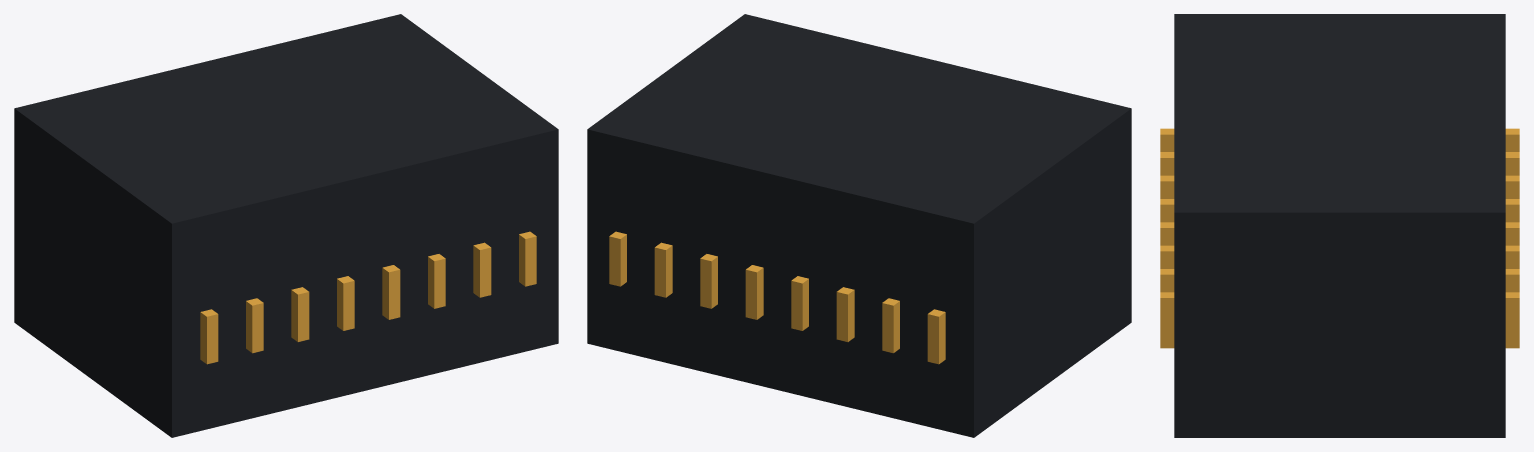
The model's file is 089_L106_CONNECTOR1.fbx.
3 renders of one model, left to right at view 1: azimuth 30°, elevation 25°; view 2: azimuth 150°, elevation 25°; view 3: azimuth 270°, elevation 25°, orthographic. The views are drawn at different scales.
Parts seen in each view (by area): view 1: 089_L106_CONNECTOR1_000, 089_L106_CONNECTOR1_001, 089_L106_CONNECTOR1_005, 089_L106_CONNECTOR1_013, 089_L106_CONNECTOR1_009, 089_L106_CONNECTOR1_003, 089_L106_CONNECTOR1_011, 089_L106_CONNECTOR1_015, 089_L106_CONNECTOR1_007; view 2: 089_L106_CONNECTOR1_000, 089_L106_CONNECTOR1_002, 089_L106_CONNECTOR1_006, 089_L106_CONNECTOR1_014, 089_L106_CONNECTOR1_010, 089_L106_CONNECTOR1_004, 089_L106_CONNECTOR1_012, 089_L106_CONNECTOR1_016, 089_L106_CONNECTOR1_008; view 3: 089_L106_CONNECTOR1_000, 089_L106_CONNECTOR1_015, 089_L106_CONNECTOR1_016, 089_L106_CONNECTOR1_003, 089_L106_CONNECTOR1_004, 089_L106_CONNECTOR1_009, 089_L106_CONNECTOR1_010, 089_L106_CONNECTOR1_001, 089_L106_CONNECTOR1_002, 089_L106_CONNECTOR1_005, 089_L106_CONNECTOR1_006, 089_L106_CONNECTOR1_007 (+5 smaller).
Part boxes in pixels (bbox=[...]): 089_L106_CONNECTOR1_000: bbox=[14, 14, 558, 437]; 089_L106_CONNECTOR1_001: bbox=[200, 309, 218, 364]; 089_L106_CONNECTOR1_005: bbox=[291, 287, 309, 341]; 089_L106_CONNECTOR1_013: bbox=[473, 242, 491, 297]; 089_L106_CONNECTOR1_009: bbox=[382, 265, 400, 319]; 089_L106_CONNECTOR1_003: bbox=[246, 298, 263, 353]; 089_L106_CONNECTOR1_011: bbox=[428, 254, 445, 308]; 089_L106_CONNECTOR1_015: bbox=[519, 231, 536, 286]; 089_L106_CONNECTOR1_007: bbox=[337, 276, 354, 330]; 089_L106_CONNECTOR1_000: bbox=[587, 14, 1131, 437]; 089_L106_CONNECTOR1_002: bbox=[927, 309, 945, 364]; 089_L106_CONNECTOR1_006: bbox=[836, 287, 854, 341]; 089_L106_CONNECTOR1_014: bbox=[654, 242, 672, 297]; 089_L106_CONNECTOR1_010: bbox=[745, 265, 763, 319]; 089_L106_CONNECTOR1_004: bbox=[882, 298, 899, 353]; 089_L106_CONNECTOR1_012: bbox=[700, 254, 717, 308]; 089_L106_CONNECTOR1_016: bbox=[609, 231, 626, 286]; 089_L106_CONNECTOR1_008: bbox=[791, 276, 808, 330]; 089_L106_CONNECTOR1_000: bbox=[1174, 14, 1505, 437]; 089_L106_CONNECTOR1_015: bbox=[1160, 292, 1174, 348]; 089_L106_CONNECTOR1_016: bbox=[1505, 292, 1519, 348]; 089_L106_CONNECTOR1_003: bbox=[1160, 152, 1174, 175]; 089_L106_CONNECTOR1_004: bbox=[1505, 152, 1519, 175]; 089_L106_CONNECTOR1_009: bbox=[1160, 222, 1174, 245]; 089_L106_CONNECTOR1_010: bbox=[1505, 222, 1519, 245]; 089_L106_CONNECTOR1_001: bbox=[1160, 128, 1174, 151]; 089_L106_CONNECTOR1_002: bbox=[1505, 128, 1519, 151]; 089_L106_CONNECTOR1_005: bbox=[1160, 175, 1174, 198]; 089_L106_CONNECTOR1_006: bbox=[1505, 175, 1519, 198]; 089_L106_CONNECTOR1_007: bbox=[1160, 199, 1174, 222].
Bounding box in the file's own units: 0.017 × 0.013 × 0.009.
